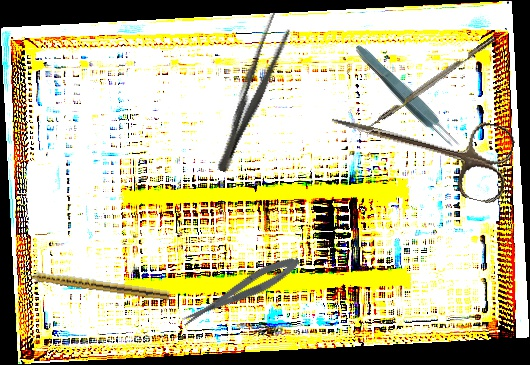Chopper: (361, 35, 500, 139)
Dressing Forceps: (209, 10, 296, 177)
Handpiece: (13, 266, 172, 301)
Iris Scissors: (321, 86, 518, 206)
Micro Scissor: (176, 250, 305, 331)
Tissue Forceps: (350, 40, 464, 154)
